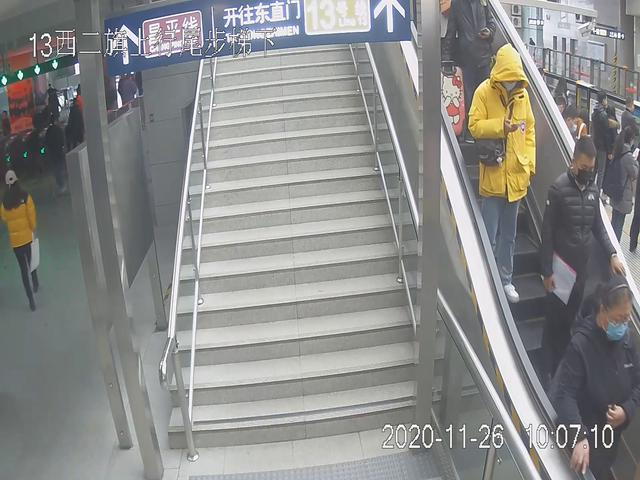person: (539, 131, 626, 389), (542, 274, 640, 480), (463, 38, 537, 310), (1, 164, 42, 315)
